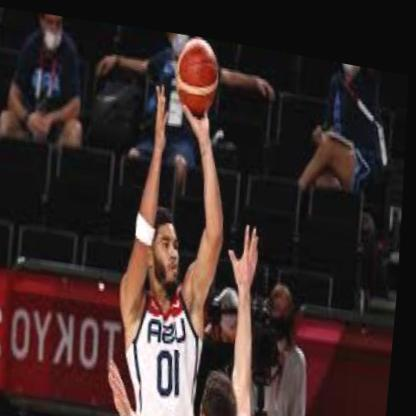basketball: (173, 27, 222, 114)
